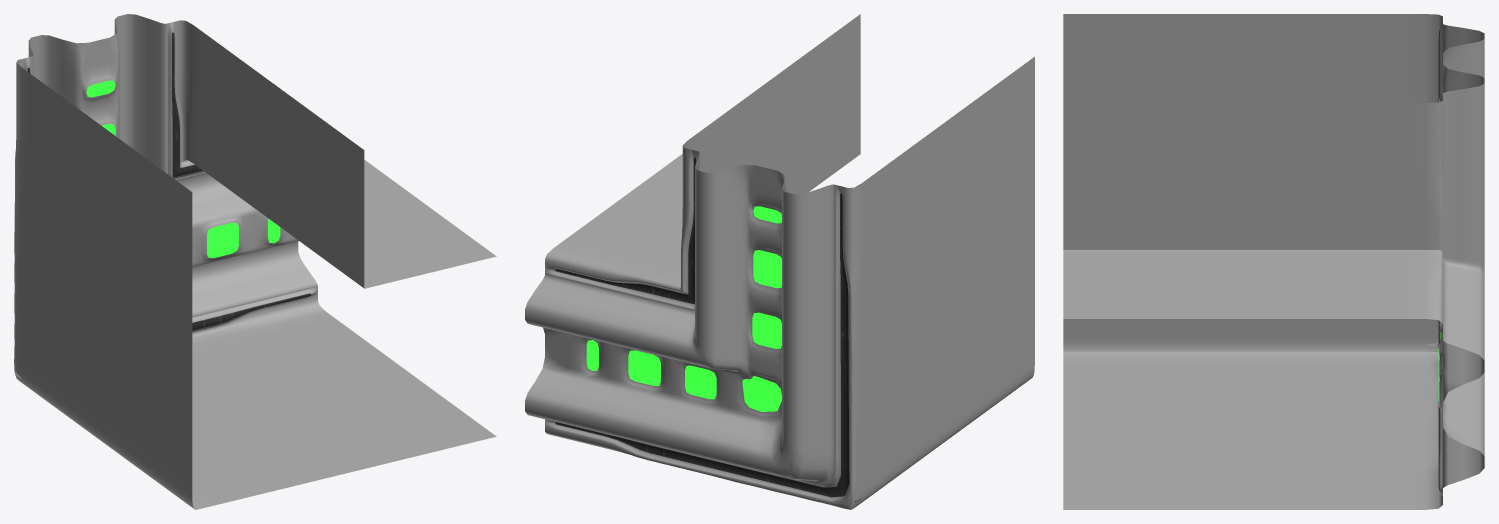
The model's file is FloorTile3.fbx.
3 renders of one model, left to right at view 1: azimuth 30°, elevation 25°; view 2: azimuth 150°, elevation 25°; view 3: azimuth 270°, elevation 25°, orthographic. The views are drawn at different scales.
Parts seen in each view (by area): view 1: Object005; view 2: Object005; view 3: Object005.
Part boxes in pixels (box(x1,y1,x2,y2)): Object005: box(14, 14, 496, 509); Object005: box(525, 14, 1034, 509); Object005: box(1063, 14, 1484, 509).
Size of the model in its own units: 731 by 731 by 826.
